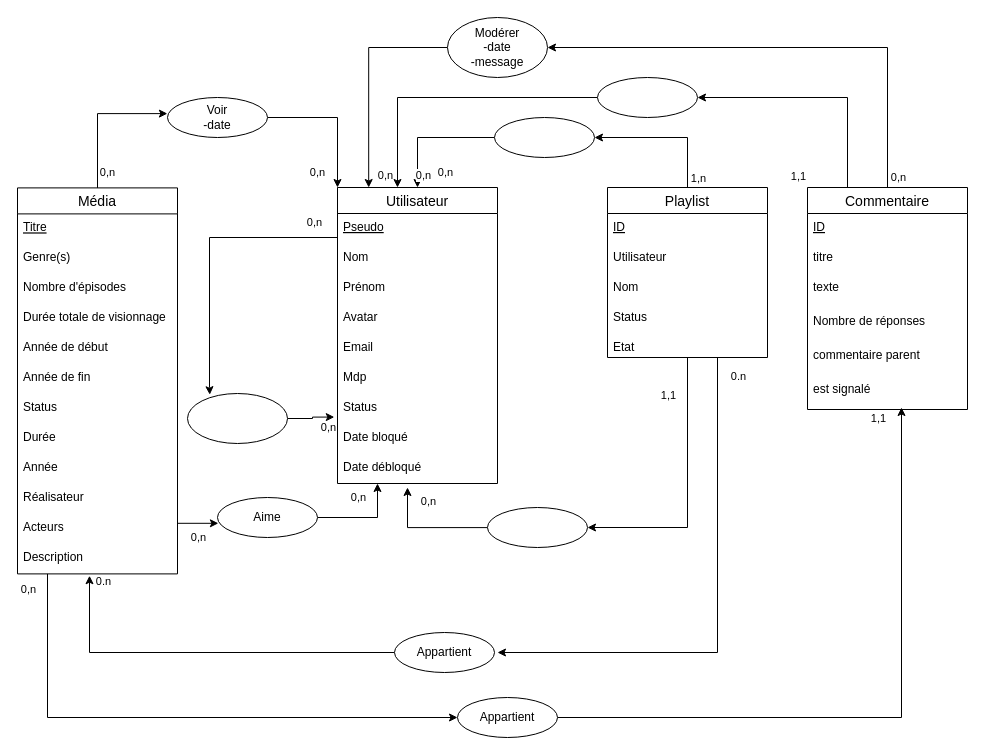
This 985x755 diagram has some shape labels left out. The shapes that lost their labels are listed below. From the top down, each one's centre as x and y in pixels, then its label:
At (x=647, y=97): "écrit".
At (x=544, y=137): "Abonné".
At (x=237, y=418): "Signaler -date -message".
At (x=537, y=527): "Possède -date".
